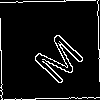M: (25, 25, 87, 87)
